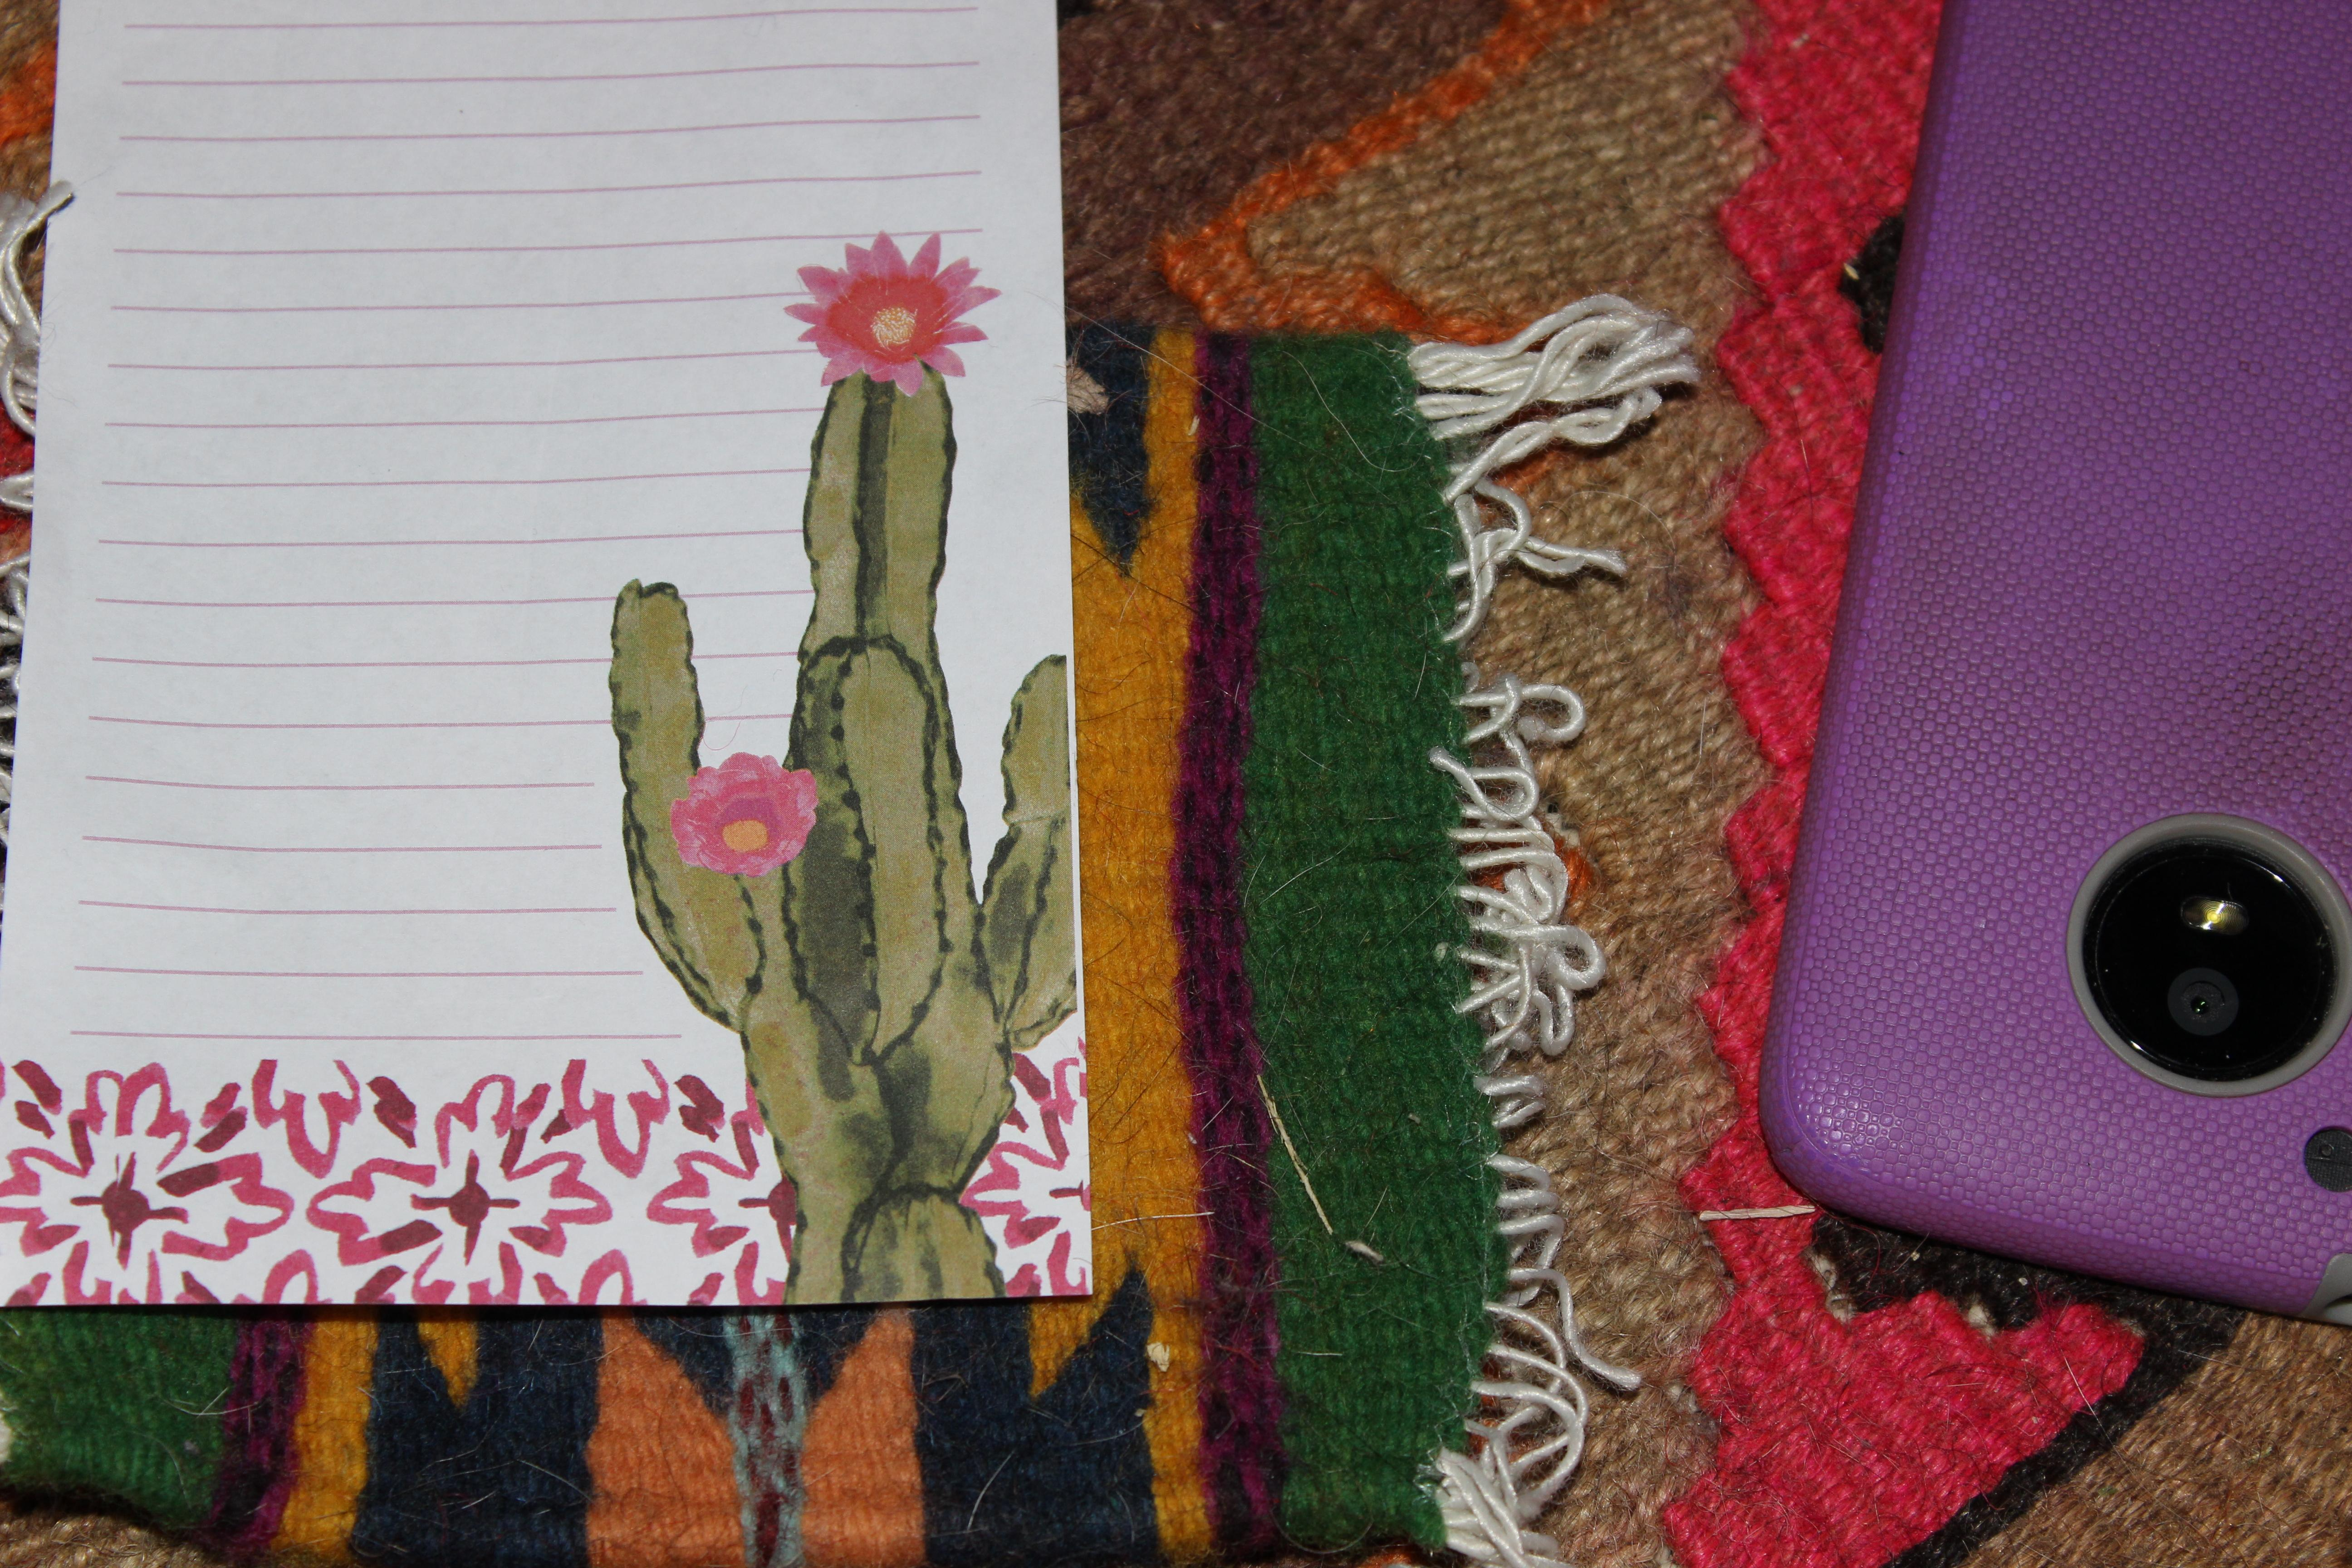cactusPaper: (0, 3, 1118, 1340)
